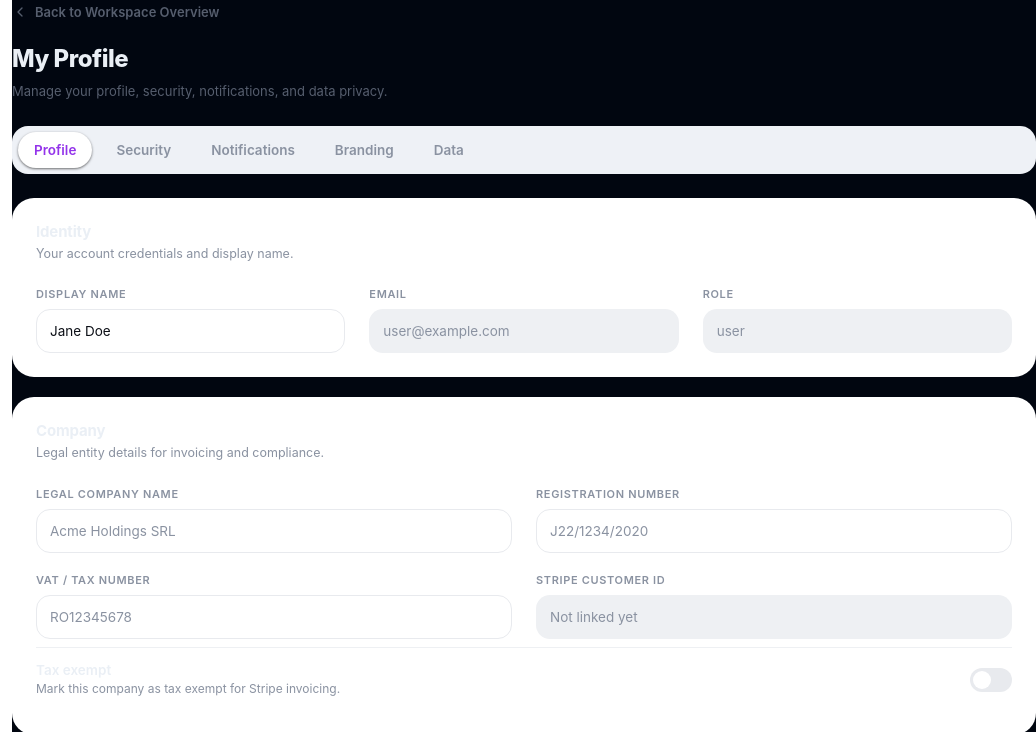
Test: AccountSettingsPage › requires programmatic labels for the SecuritySection password fields
Click the tab "Security" at (144, 150), box [100,132,187,168]
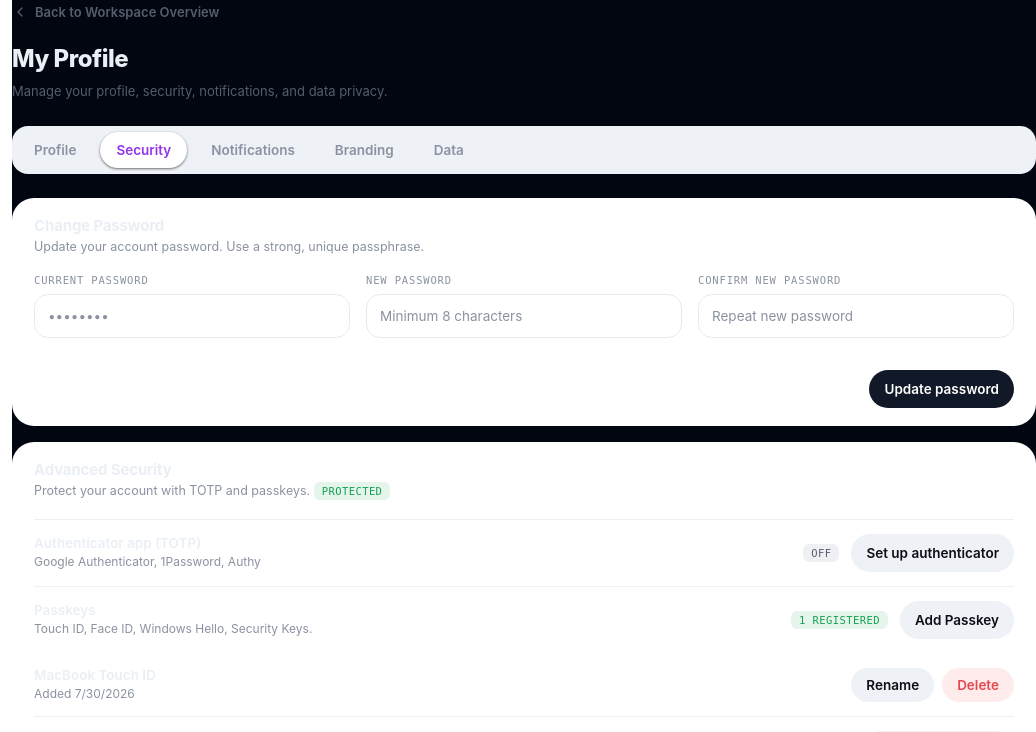
Expected: the password field labelled "Current password" is shown, [34,294,350,338]
Expected: the password field labelled "New password" is shown, [366,294,682,338]
Expected: the password field labelled "Confirm new password" is shown, [698,294,1014,338]
